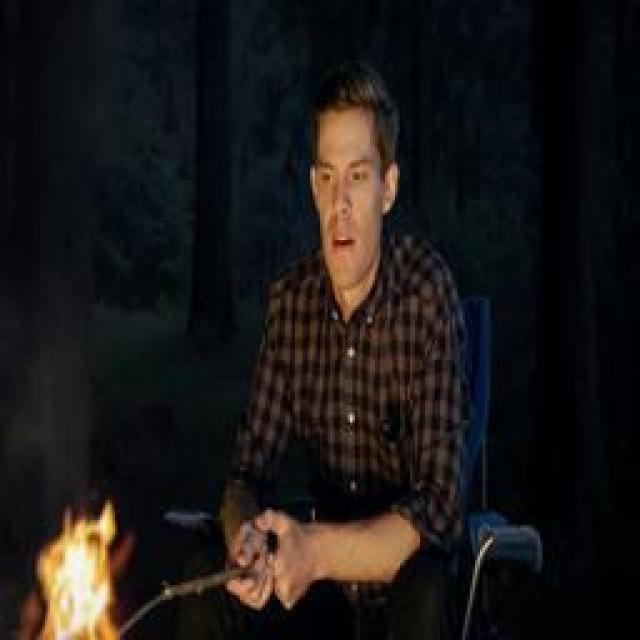Fire: (35, 502, 123, 640)
